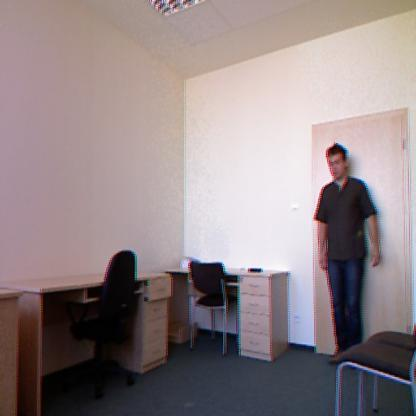normal: (311, 139, 384, 340)
